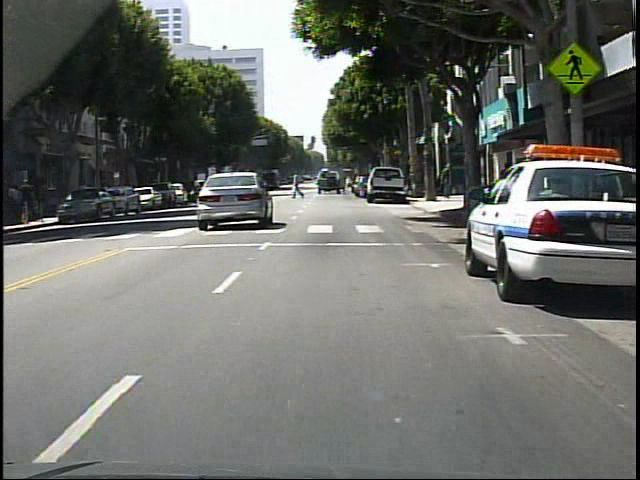person: (440, 162, 456, 202), (22, 180, 36, 225), (290, 170, 306, 202), (9, 185, 22, 224)
